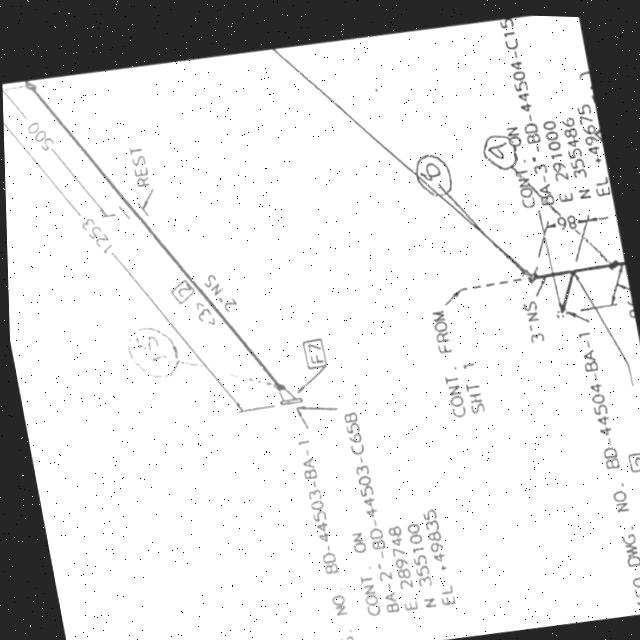Item number: (295, 335, 327, 370), (164, 277, 193, 306), (621, 447, 640, 471)
Measrement: (3, 113, 239, 405), (517, 294, 547, 344)
Weld number: (116, 322, 184, 384), (407, 147, 456, 199), (475, 128, 520, 171)
other: (323, 397, 459, 622), (483, 12, 612, 214), (569, 330, 640, 605), (288, 422, 352, 640), (423, 298, 486, 421)
